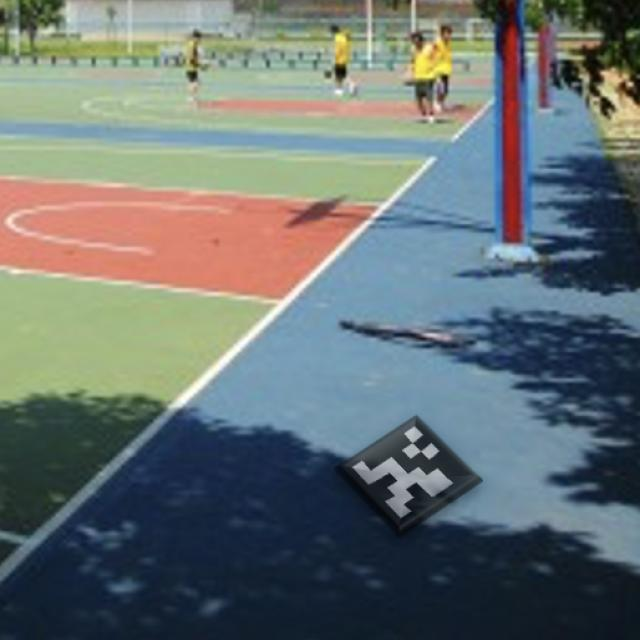marker: (331, 406, 489, 541)
